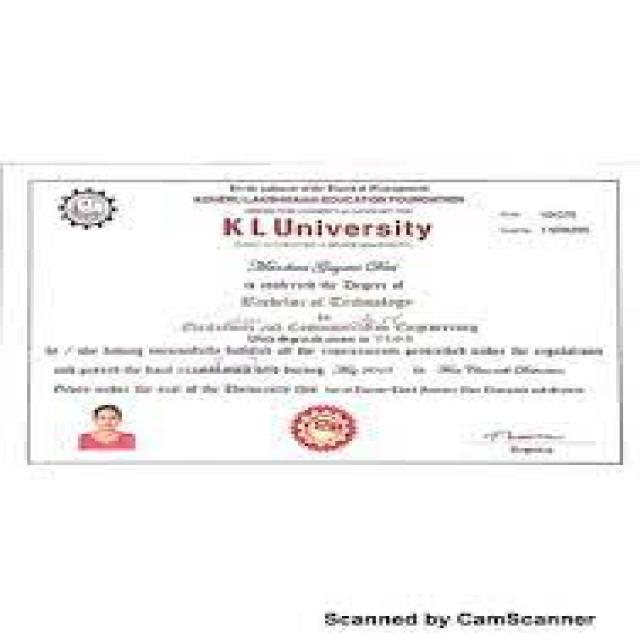degree: (243, 256, 418, 276)
signature: (468, 419, 592, 457)
stamp: (280, 402, 363, 454)
